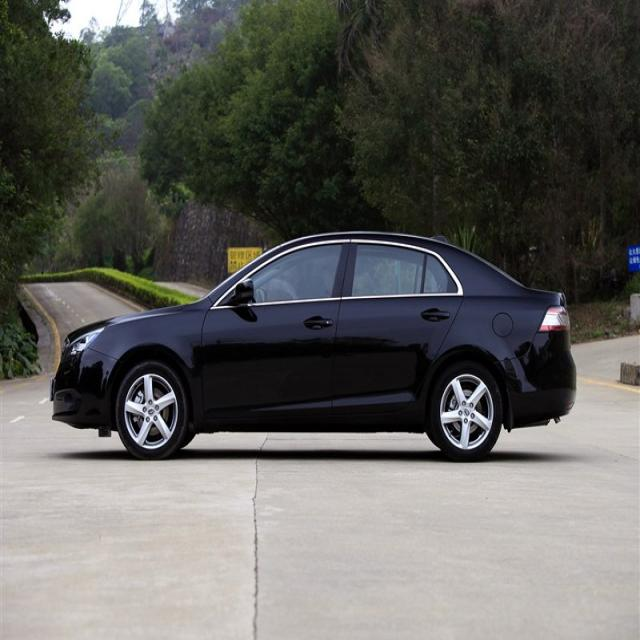back_left_side_light: (537, 304, 571, 333)
door: (334, 238, 468, 425)
front_bumper: (50, 344, 118, 430)
front_left_side_door: (200, 234, 353, 423)
front_left_side_light: (57, 324, 106, 366)
front_left_side_mirror: (225, 274, 256, 302)
rear_bumper: (495, 329, 578, 431)
wheel: (430, 359, 502, 459), (116, 360, 188, 459)
